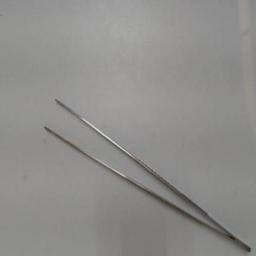DeBakey Dissector: (40, 94, 254, 254)
